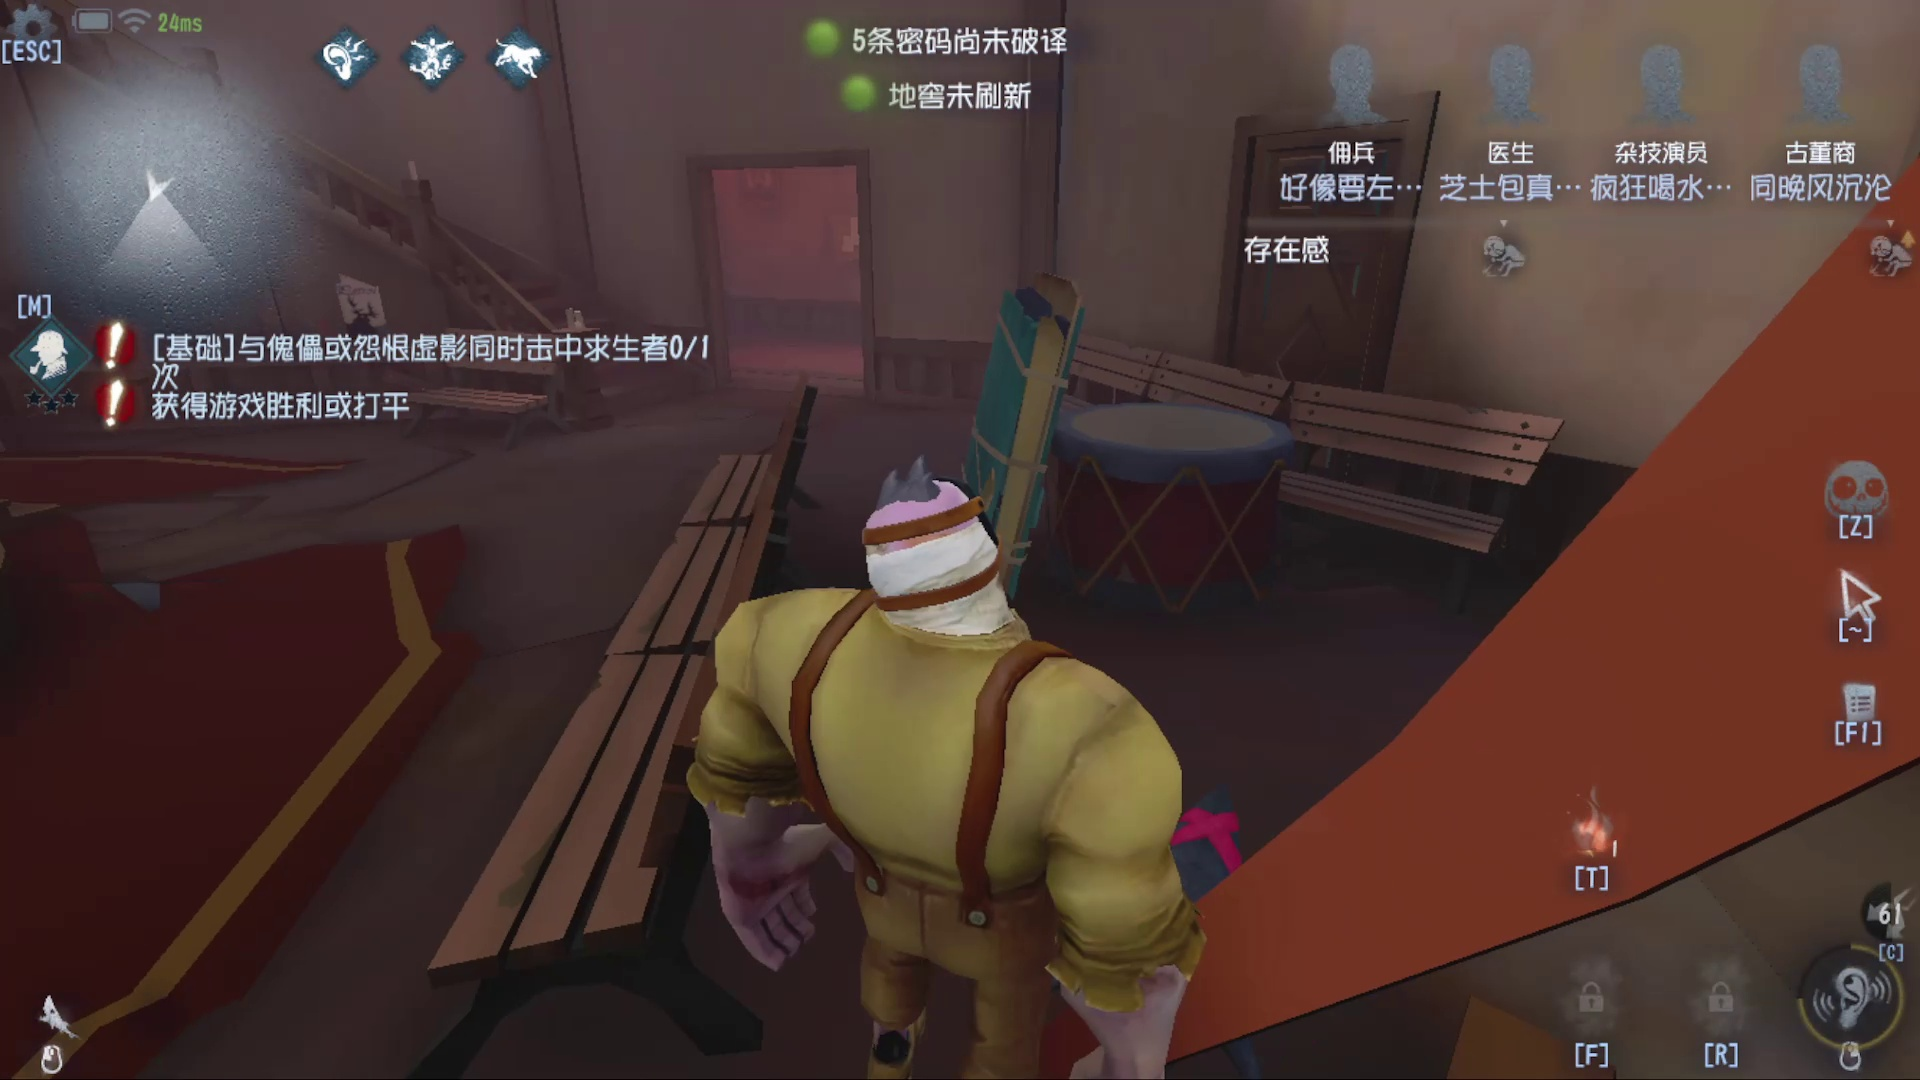木板: (916, 269, 1089, 632)
